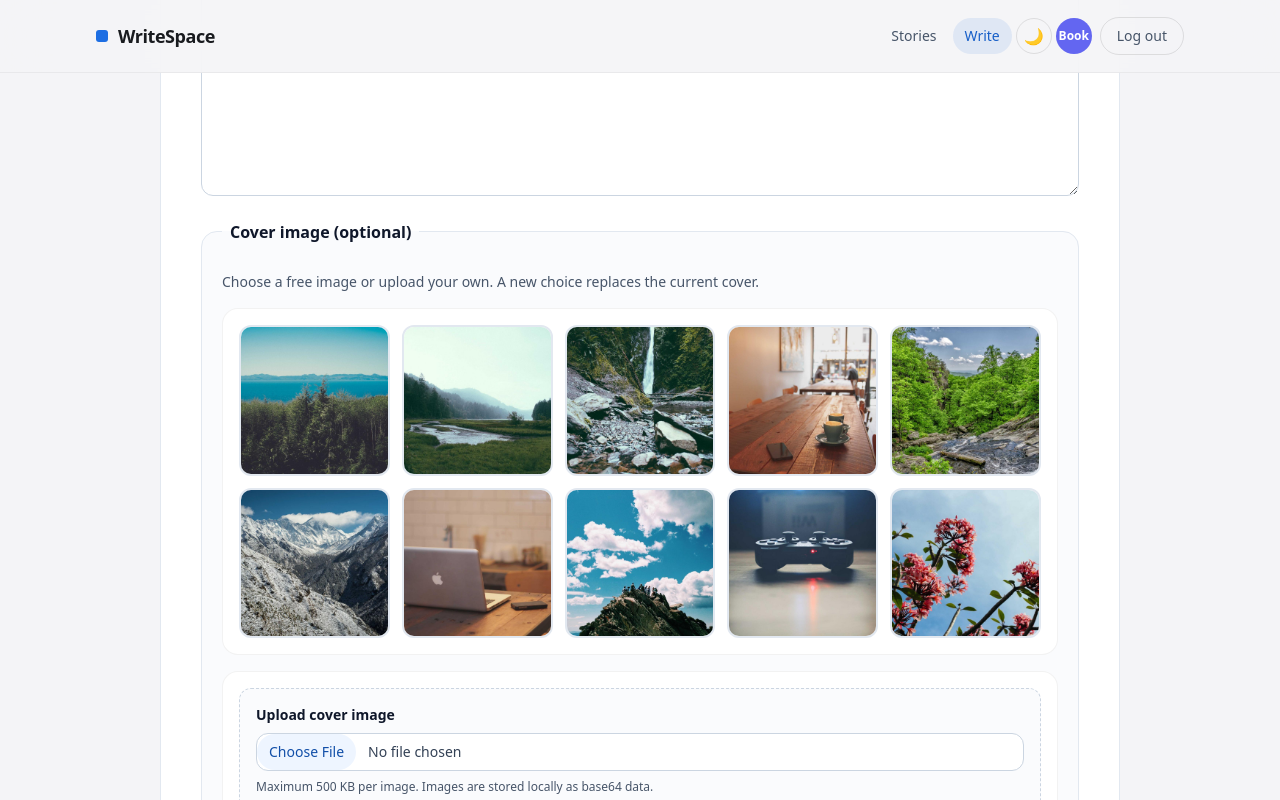
Test: blog pages › creates a post with a free cover and multiple free gallery images
(page scrolled)
Click the 1st button named "Snow-capped mountains rising above a quiet valley" at (314, 400), box x1=239 y1=325 x2=390 y2=476
(page scrolled)
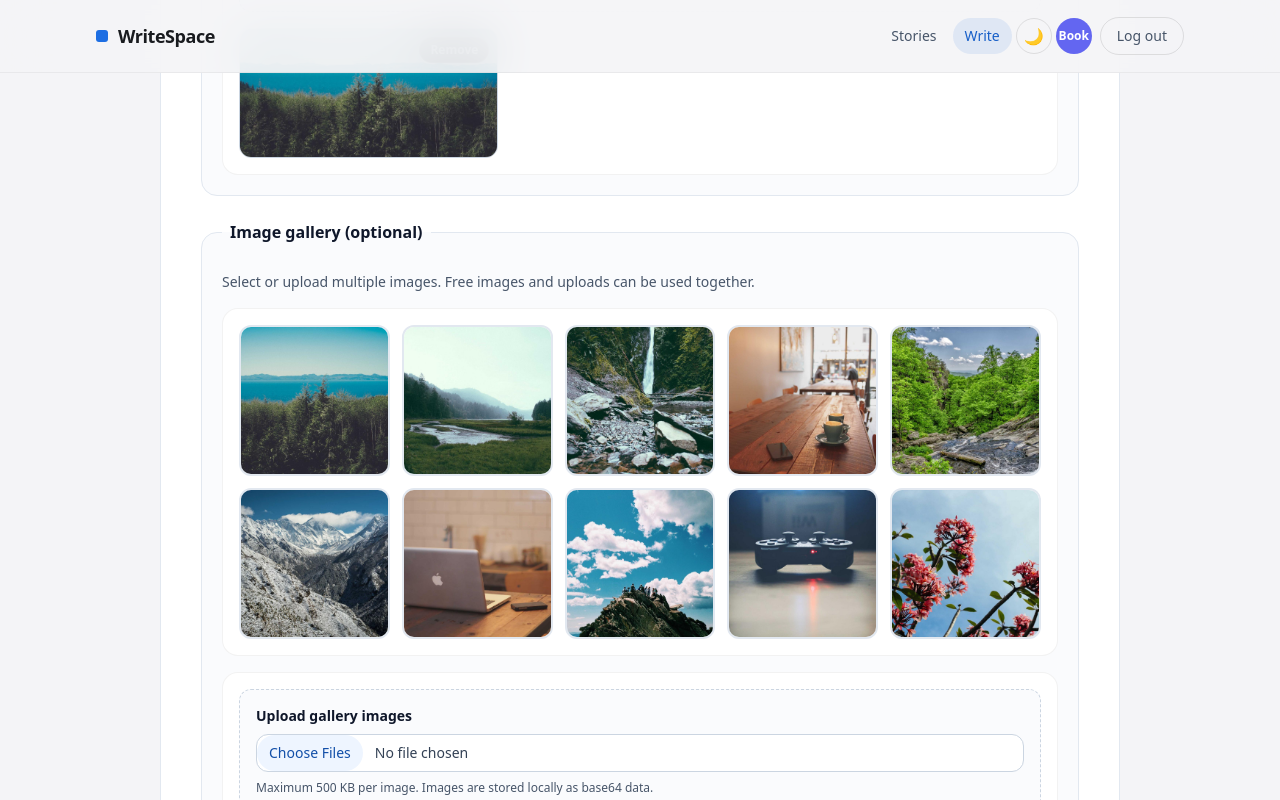
Click the 2nd button named "Ocean waves rolling toward a sunlit shore" at (477, 401), box x1=402 y1=325 x2=553 y2=476
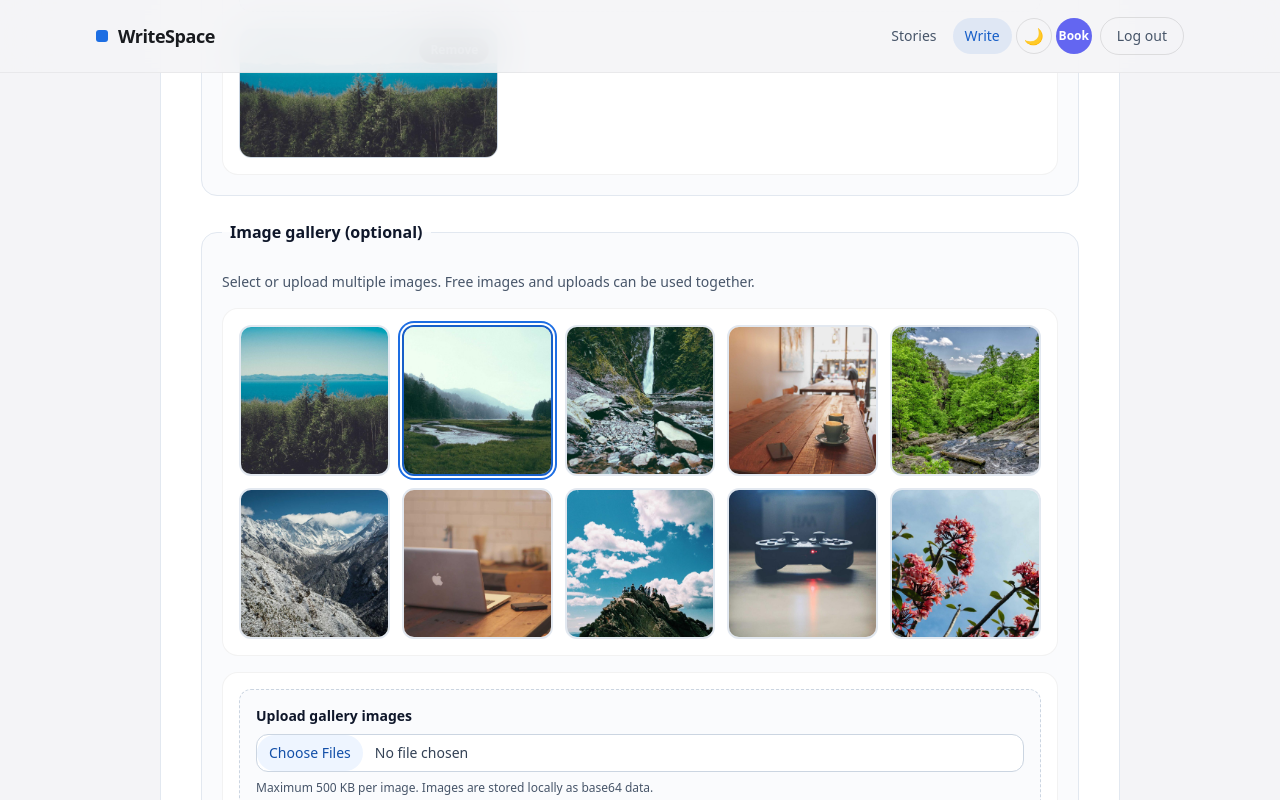
Click the 3rd button named "Tall forest trees surrounding a shaded woodland path" at (640, 401), box x1=565 y1=325 x2=715 y2=476
(page scrolled)
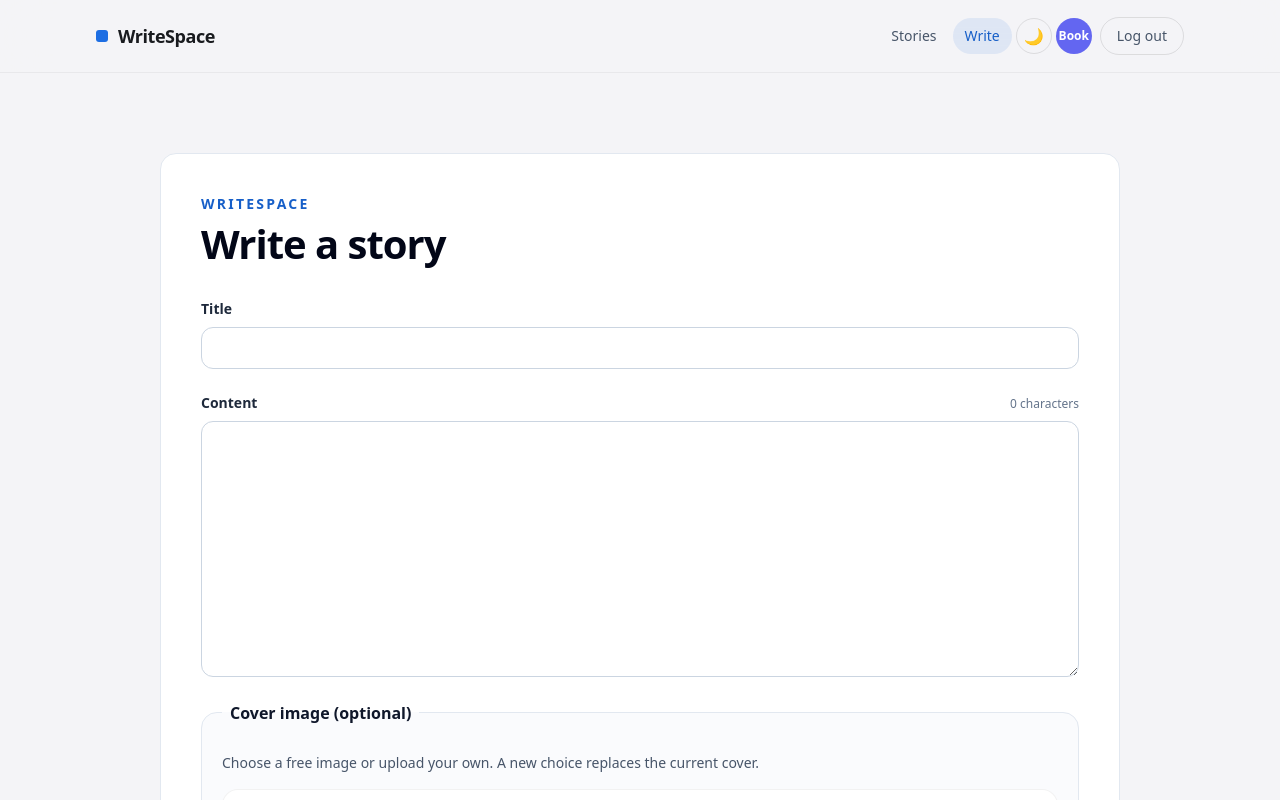
Type "Free image story" into the field labelled "Title" at (640, 348), box x1=201 y1=327 x2=1079 y2=369
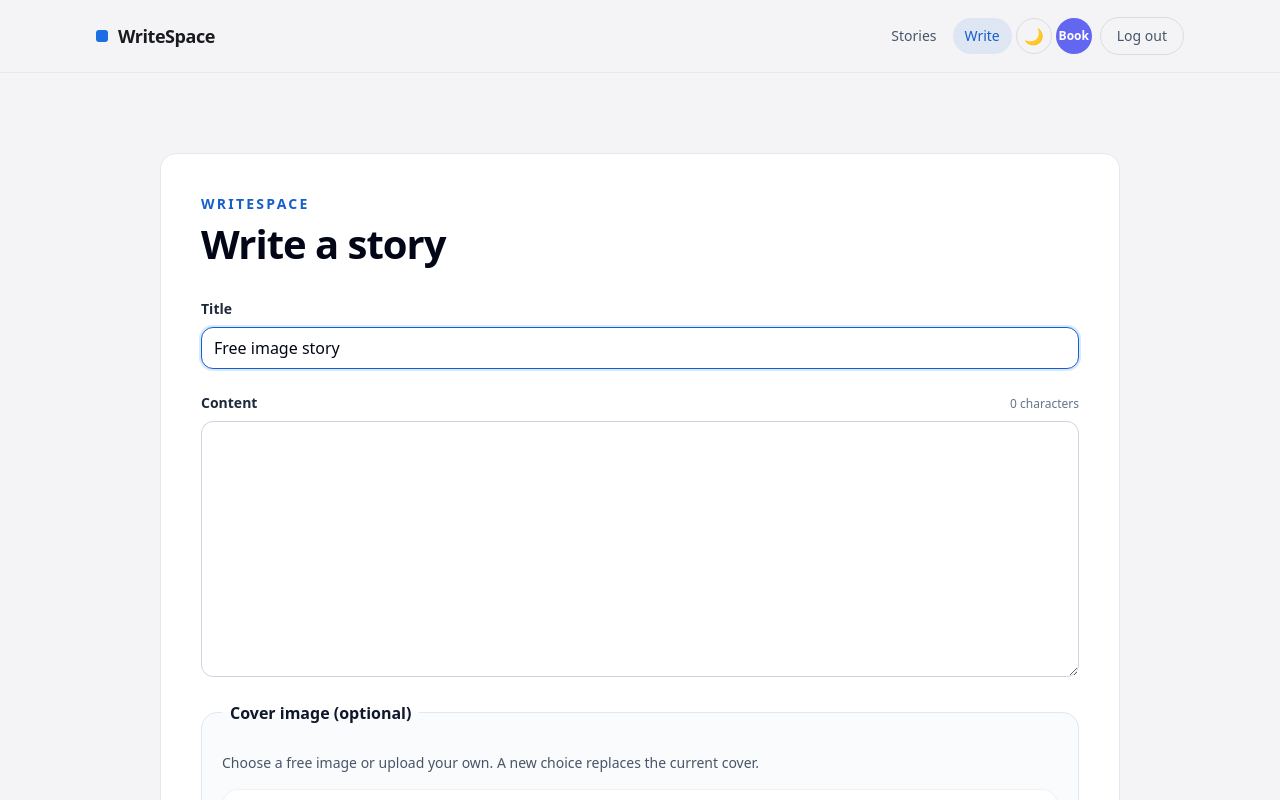
Type "Free image body." into the text box labelled "Content" at (640, 549), box x1=201 y1=421 x2=1079 y2=677
(page scrolled)
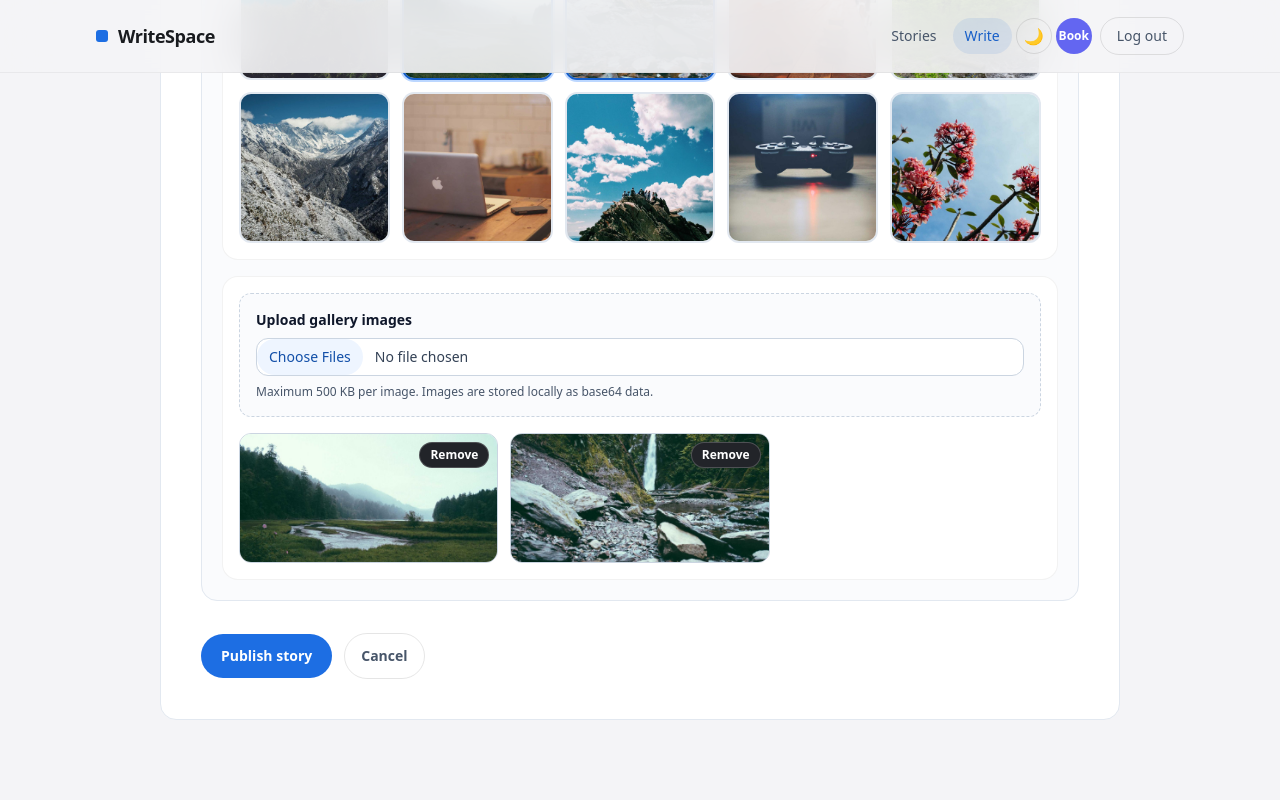
Click the button "Publish story" at (267, 656), box x1=201 y1=634 x2=332 y2=678
(page scrolled)
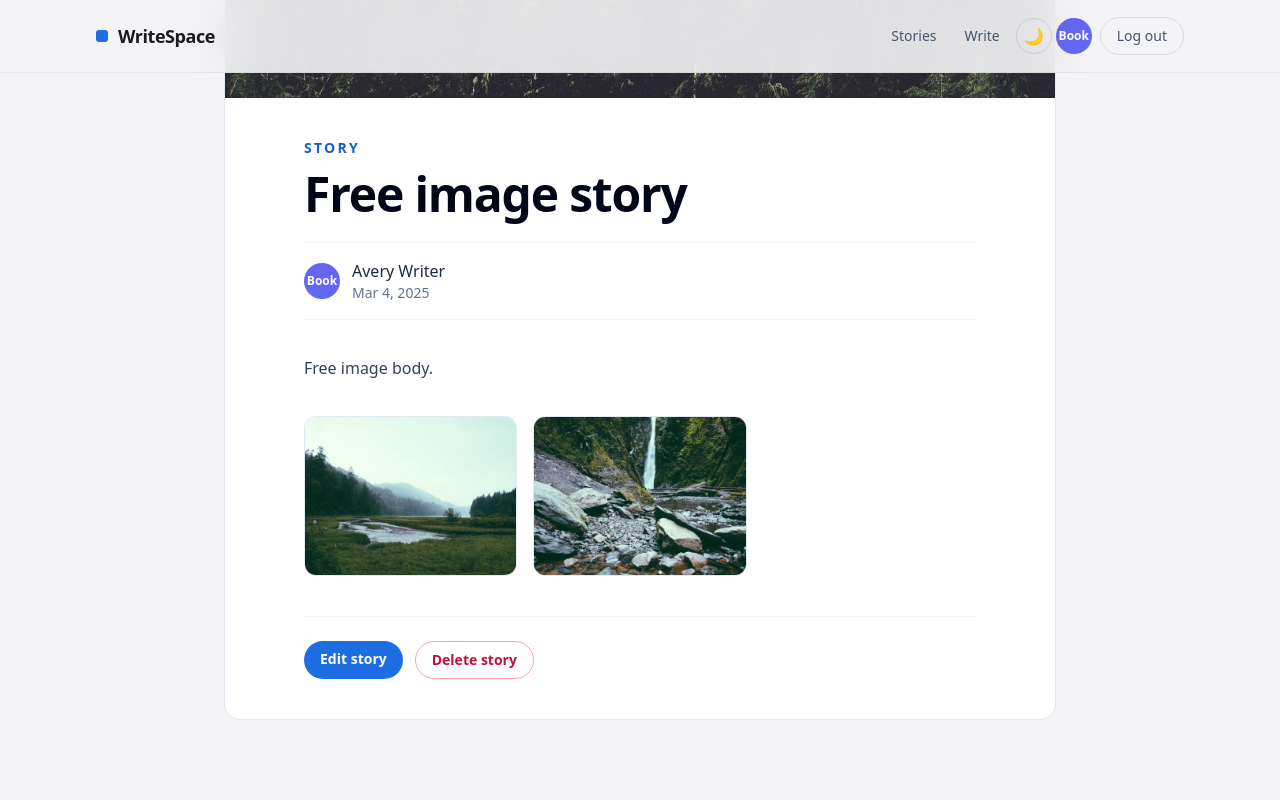
Now the heading "Free image story" is shown, box x1=304 y1=161 x2=687 y2=226
